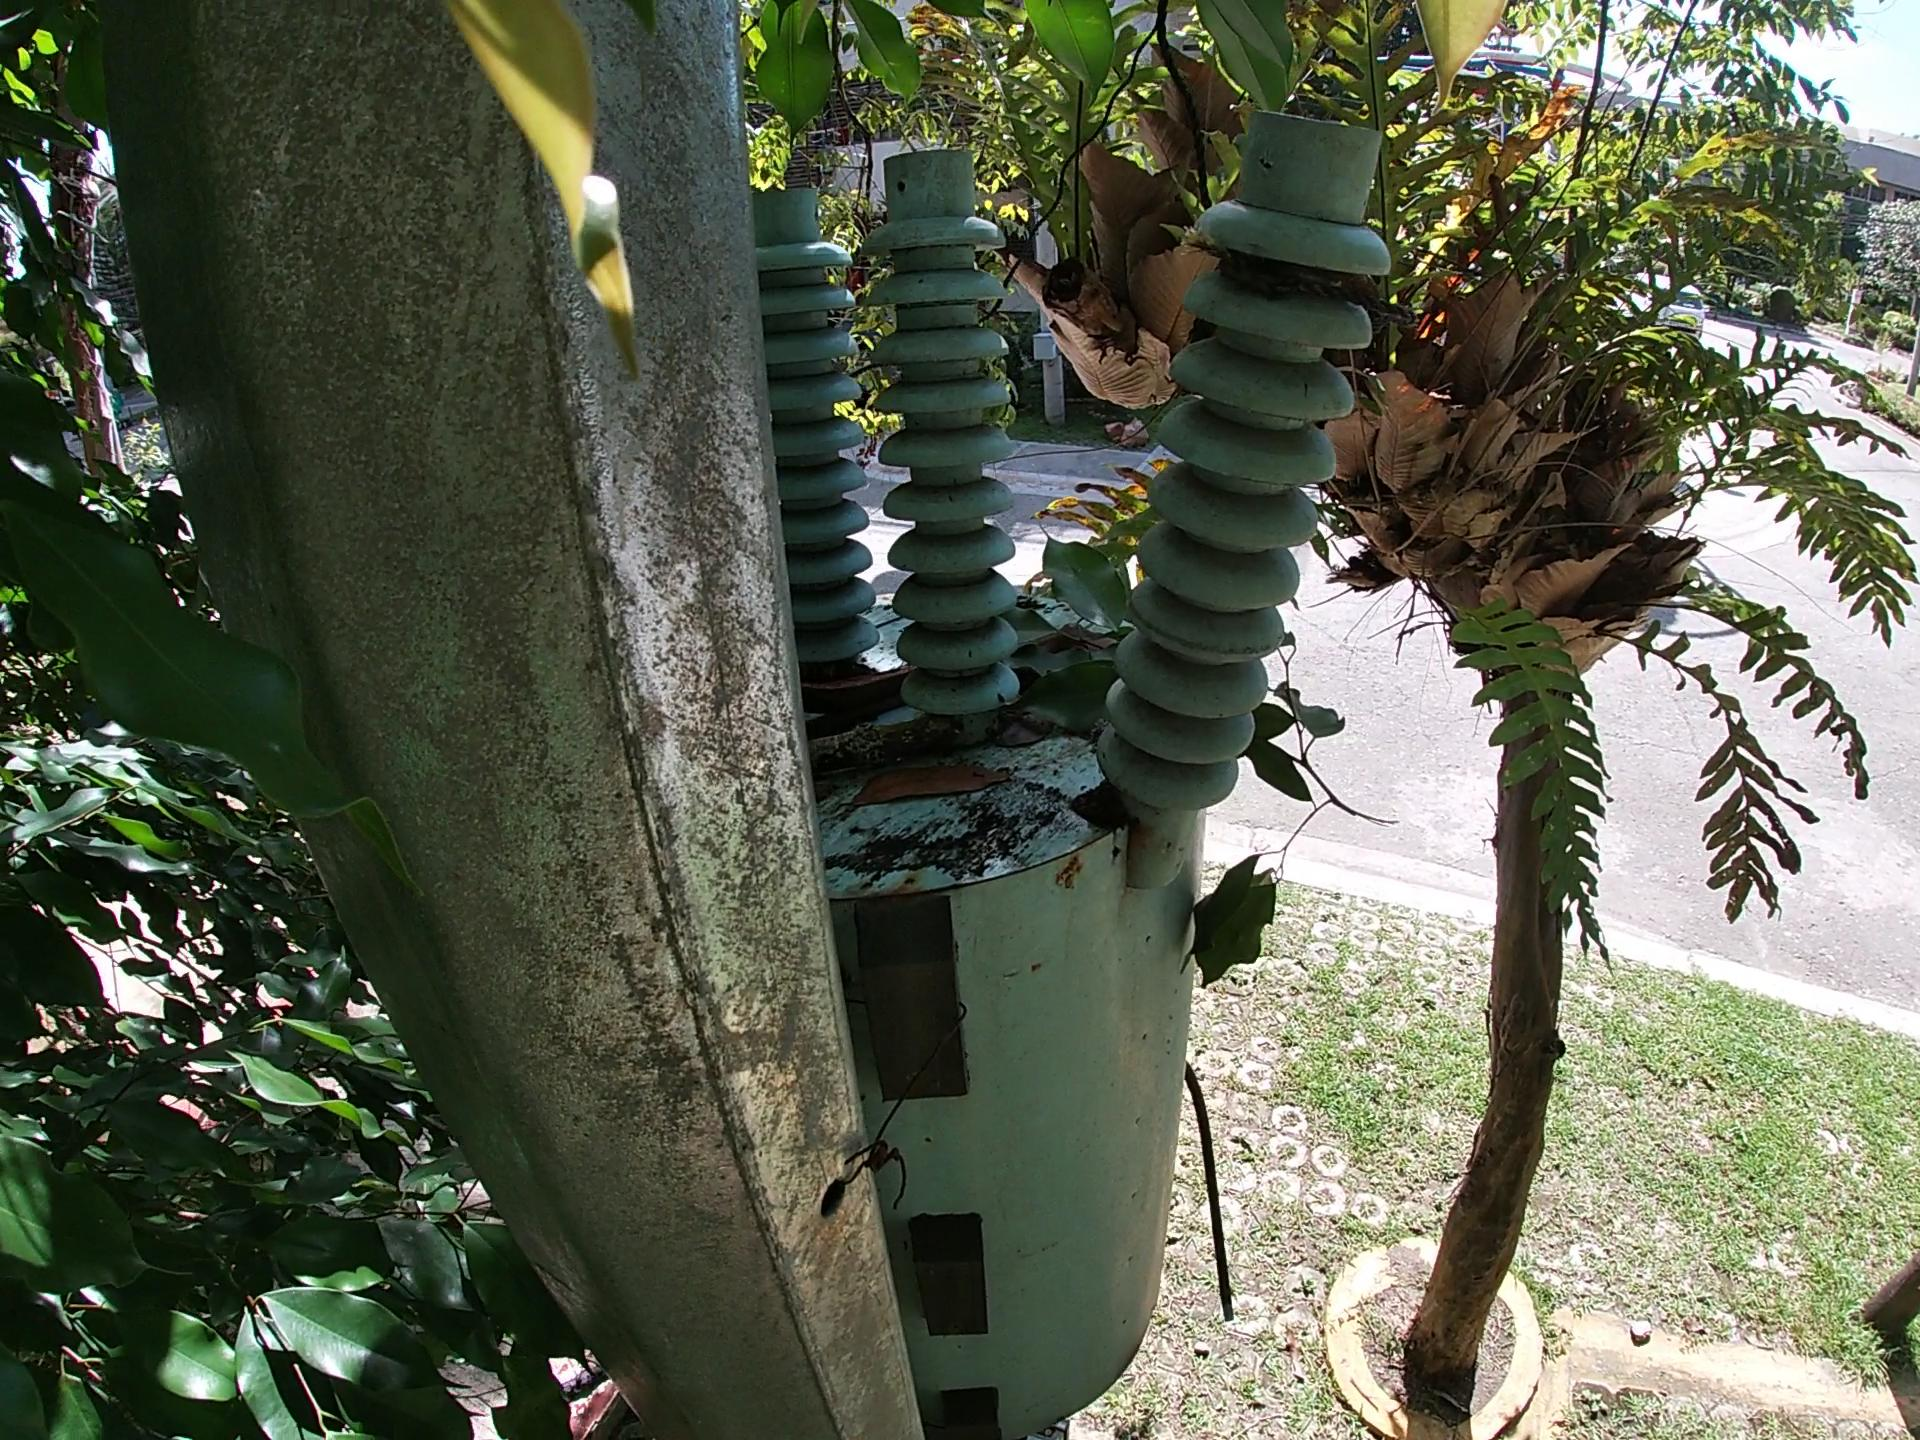branch with leaves: (1190, 635, 1382, 1019)
leaf: (1008, 508, 1126, 737), (850, 756, 1017, 806)
mahogany fruit: (791, 650, 924, 706)
tree branch: (809, 722, 965, 761)
